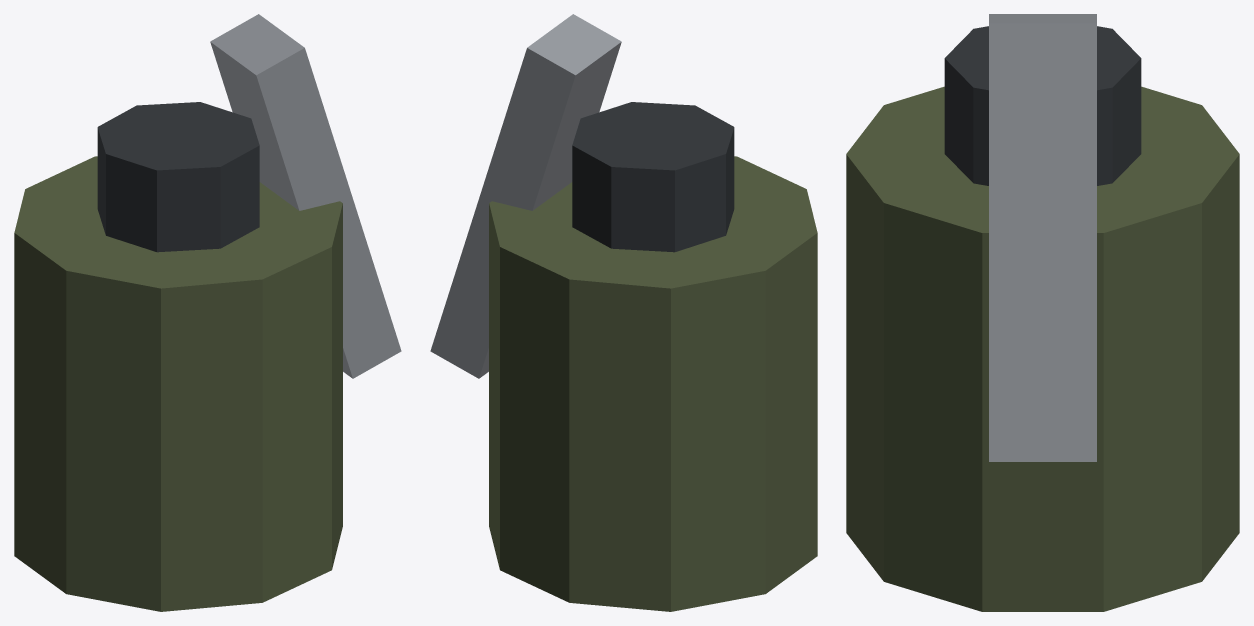
The model's file is Grenade.fbx.
The picture shows the model from 3 angles, left to right: view 1: azimuth 30°, elevation 25°; view 2: azimuth 150°, elevation 25°; view 3: azimuth 270°, elevation 25°; orthographic projection. The views are drawn at different scales.
Visible parts, largest first — view 1: Grenade_Body, Grenade_Neck, Grenade_Lever; view 2: Grenade_Body, Grenade_Neck, Grenade_Lever; view 3: Grenade_Body, Grenade_Lever, Grenade_Neck.
Boxes of the visible parts, box(x1,y1,x2,y2) form: Grenade_Body: box(14, 156, 342, 611); Grenade_Neck: box(97, 102, 259, 252); Grenade_Lever: box(210, 14, 401, 378); Grenade_Body: box(489, 156, 817, 611); Grenade_Neck: box(572, 102, 734, 252); Grenade_Lever: box(430, 14, 621, 378); Grenade_Body: box(846, 86, 1239, 611); Grenade_Lever: box(989, 14, 1096, 461); Grenade_Neck: box(944, 26, 1141, 185).
Size of the model in its own units: 93.03 by 128 by 80.
